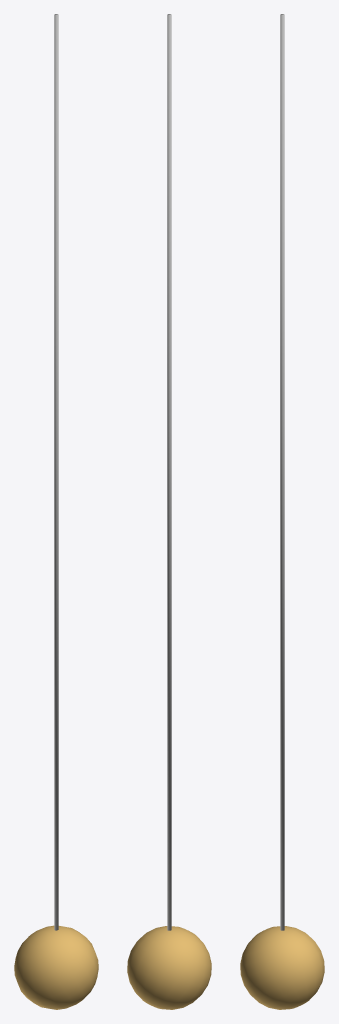
Rendered from pendulum_snake_p10.glb.
The picture shows the model from 3 angles, left to right: view 1: azimuth 30°, elevation 25°; view 2: azimuth 210°, elevation 25°; view 3: azimuth 330°, elevation 25°; orthographic projection.
Parts seen in each view (by area): view 1: Sphere10.001, Pendulum10.001; view 2: Sphere10.001, Pendulum10.001; view 3: Sphere10.001, Pendulum10.001.
Part boxes in pixels (x1,y1,x2,y2): Sphere10.001: (14,925,98,1009); Pendulum10.001: (54,14,58,930); Sphere10.001: (127,926,211,1009); Pendulum10.001: (167,14,171,930); Sphere10.001: (240,926,324,1009); Pendulum10.001: (280,14,284,930).
Size of the model in its own units: 0.04 by 0.5194 by 0.04.
